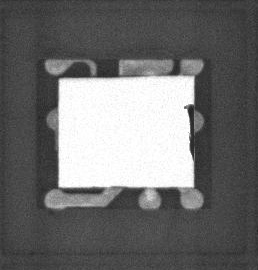DIE_BROKEN: (182, 101, 196, 163)
